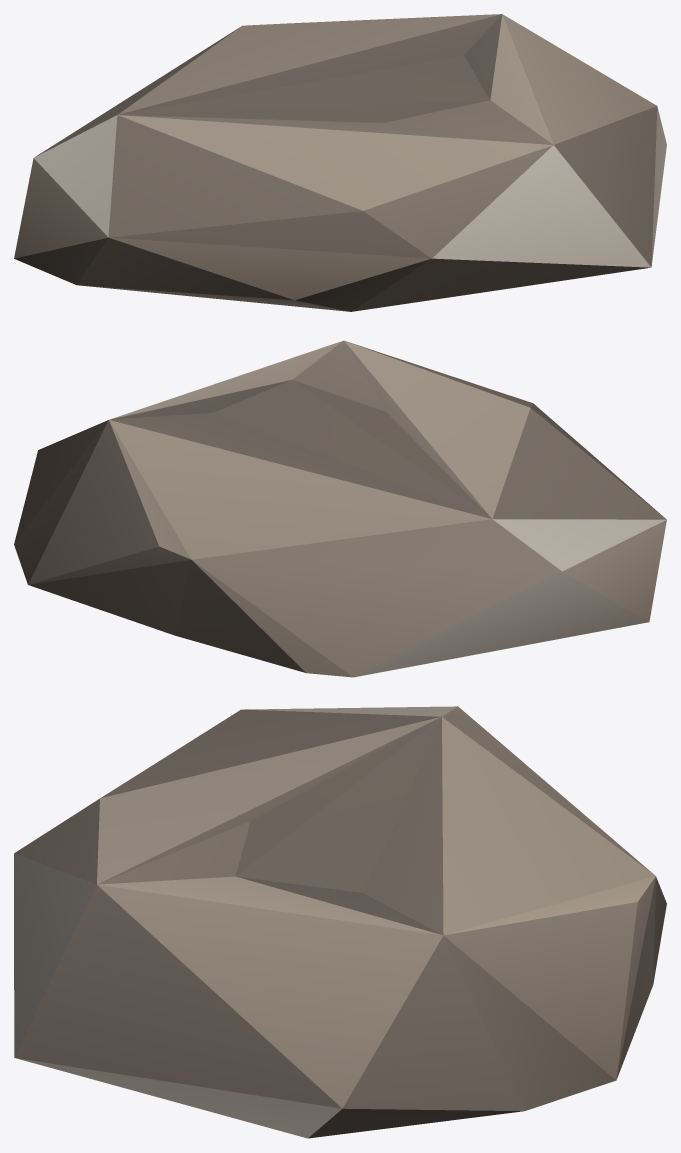
Rendered from ash_rock_c.glb.
The picture shows the model from 3 angles, top to bottom: view 1: azimuth 30°, elevation 25°; view 2: azimuth 150°, elevation 25°; view 3: azimuth 270°, elevation 25°; orthographic projection. The views are drawn at different scales.
Parts seen in each view (by area): view 1: ca_ash_rock_c; view 2: ca_ash_rock_c; view 3: ca_ash_rock_c.
Part boxes in pixels (x1,y1,x2,y2): ca_ash_rock_c: (14, 14, 666, 311); ca_ash_rock_c: (14, 340, 666, 677); ca_ash_rock_c: (14, 706, 666, 1138).
Size of the model in its own units: 2.42 by 0.4303 by 1.81.
Materials: 1 (1 with a texture image).
